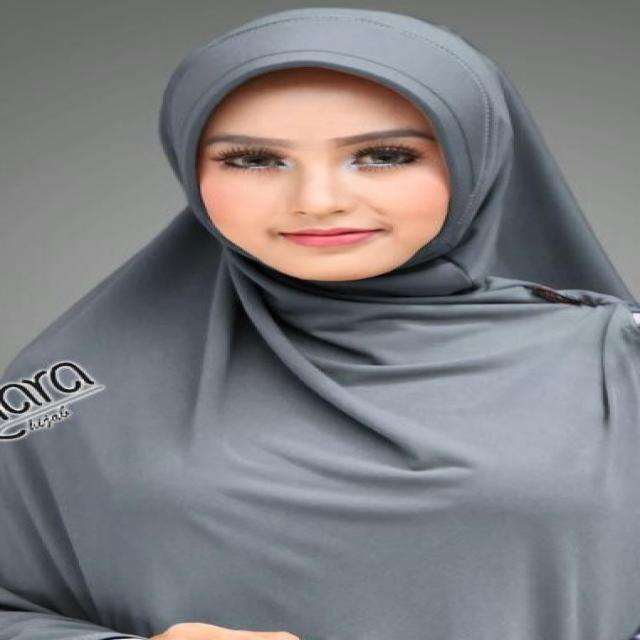head: (146, 4, 526, 292)
